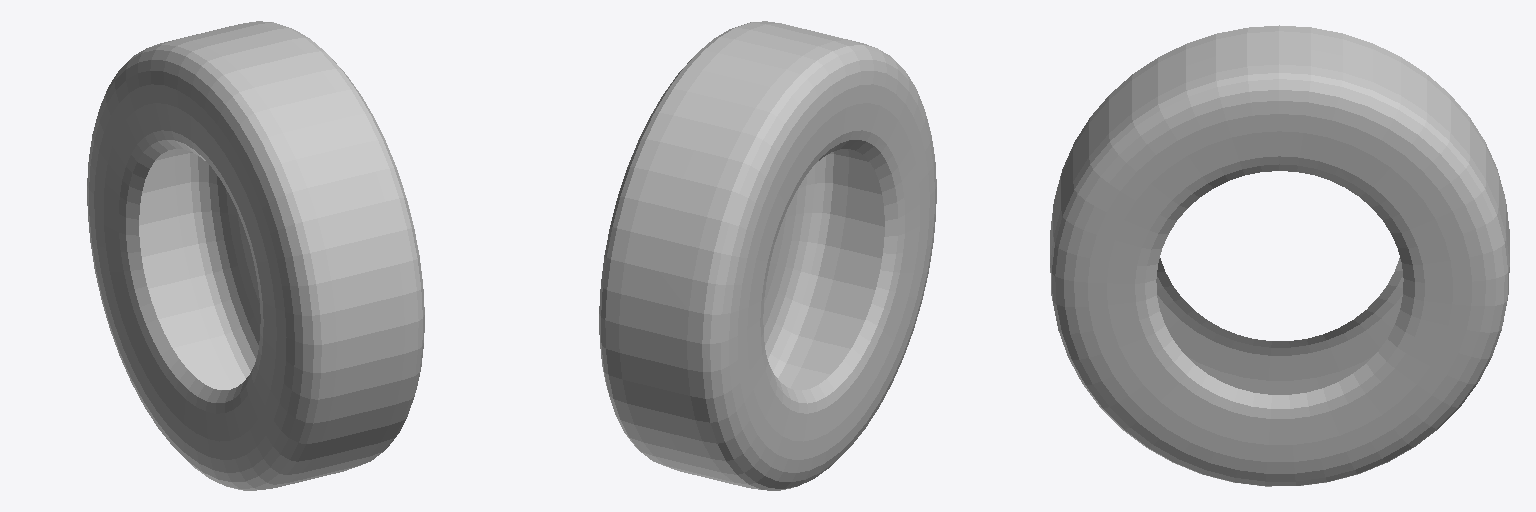
The model's file is tire.obj.
3 views of the same model, side by side, from view 1: azimuth 30°, elevation 25°; view 2: azimuth 150°, elevation 25°; view 3: azimuth 270°, elevation 25° (orthographic).
Visible parts, largest first — view 1: TireMain_Cube.005; view 2: TireMain_Cube.005; view 3: TireMain_Cube.005.
Part boxes in pixels (left/top/right/bottom): TireMain_Cube.005: left=87, top=21, right=424, bottom=490; TireMain_Cube.005: left=599, top=21, right=936, bottom=490; TireMain_Cube.005: left=1050, top=25, right=1509, bottom=486.
Size of the model in its own units: 0.2101 by 0.6345 by 0.6348.